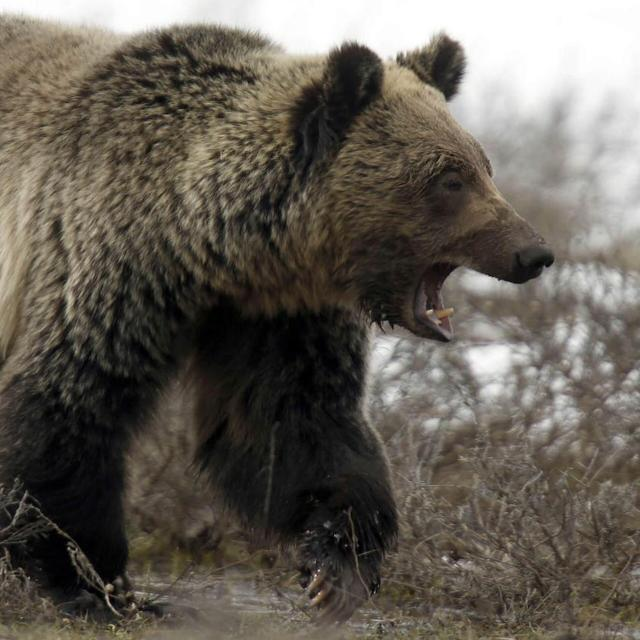Bear: (0, 18, 556, 625)
